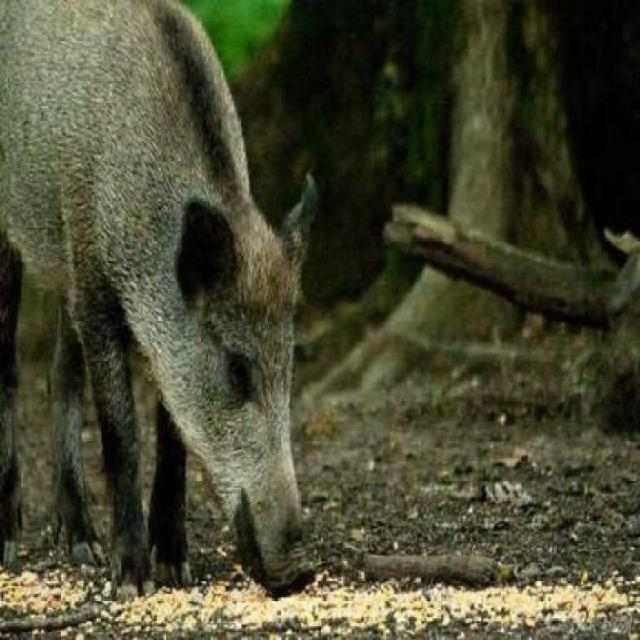pig: (0, 0, 365, 640)
